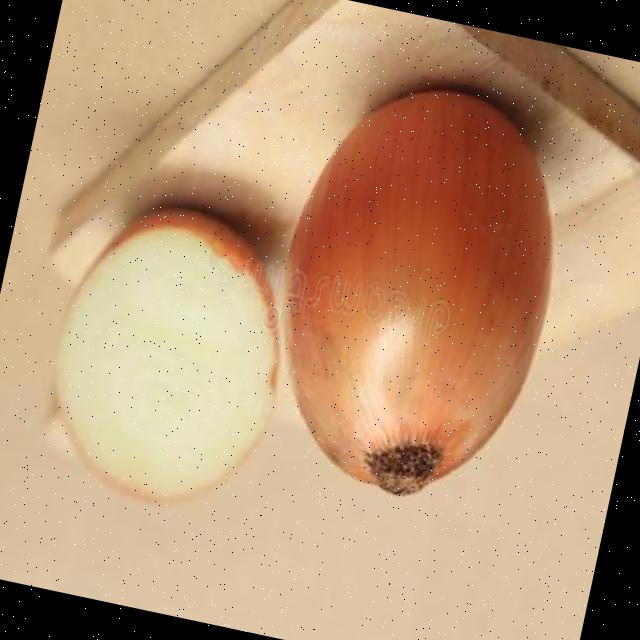Onion: (285, 88, 550, 495)
